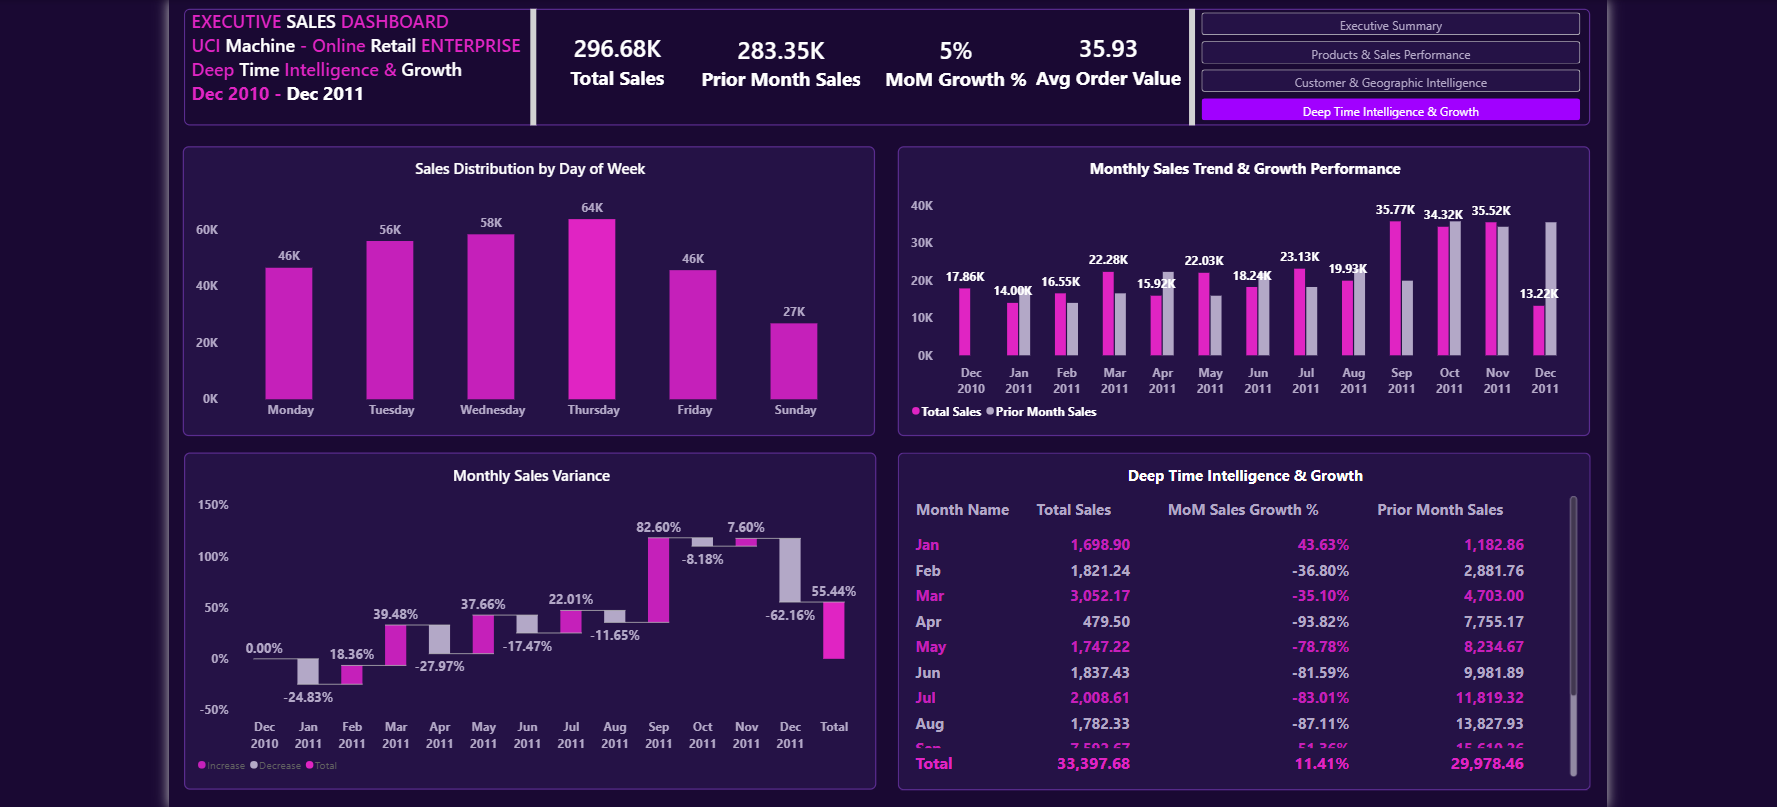

What the dashboard file says about the page in this screenshot:
{"tool":"powerbi","page":{"name":"Deep Time Intelligence & Growth","canvas":[1920,1080],"ordinal":3},"visuals":[{"type":"shape","box":[20.3,11.9,1878.3,155.8],"z":0},{"type":"textbox","box":[310,930,300,150],"z":1000},{"type":"textbox","box":[1402.4,50.8,13.5,32.2],"z":2000},{"type":"textbox","box":[30.5,11.9,445.5,155.8],"z":3000},{"type":"clusteredColumnChart","fields":{"Y":["_Measures.Total Sales"],"Category":["Dim_Calendar.Day of Week"]},"box":[18.1,195.4,925,387],"z":4000},{"type":"cardVisual","fields":{"Data":["_Measures.Total Sales"]},"box":[474.1,32.6,249.7,97.7],"z":5000},{"type":"cardVisual","fields":{"Data":["_Measures.Prior Month Sales"]},"box":[692.9,34.4,249.7,97.7],"z":6000},{"type":"cardVisual","fields":{"Data":["_Measures.MoM Growth %"]},"box":[926.5,35.6,249.7,97.7],"z":7000},{"type":"cardVisual","fields":{"Data":["_Measures.Avg Order Value"]},"box":[1130.4,33.4,249.7,97.7],"z":8000},{"type":"shape","box":[1255.7,11.7,221.9,155.8],"z":9000},{"type":"pageNavigator","box":[1378.7,16.9,506.4,147.4],"z":10000},{"type":"shape","box":[375.7,11.7,221.9,155.8],"z":12000},{"type":"clusteredColumnChart","fields":{"Category":["Dim_Calendar.Month Year"],"Y":["_Measures.Total Sales","_Measures.Prior Month Sales"]},"box":[972.7,194.5,925,387.3],"z":13000},{"type":"waterfallChart","fields":{"Category":["Dim_Calendar.Month Year"],"Y":["_Measures.MoM Sales Growth %"]},"box":[20,603.6,925,450],"z":14000},{"type":"tableEx","title":"Deep Time Intelligence & Growth","fields":{"Values":["Dim_Calendar.Month Name","_Measures.Total Sales","_Measures.MoM Sales Growth %","_Measures.Prior Month Sales"]},"box":[972.7,603.6,925.5,450.9],"z":15000}]}

Visuals, with their boxes on the page's 1920x1080 design canvas (x1, y1, x2, y2). These are canvas units, not pixel positions in the 1777x807 screenshot, which may show the page scaled, cropped or inside an application window:
shape: box(20, 12, 1899, 168)
textbox: box(310, 930, 610, 1080)
textbox: box(1402, 51, 1416, 83)
textbox: box(30, 12, 476, 168)
clusteredColumnChart - _Measures.Total Sales x Dim_Calendar.Day of Week: box(18, 195, 943, 582)
cardVisual - _Measures.Total Sales: box(474, 33, 724, 130)
cardVisual - _Measures.Prior Month Sales: box(693, 34, 943, 132)
cardVisual - _Measures.MoM Growth %: box(926, 36, 1176, 133)
cardVisual - _Measures.Avg Order Value: box(1130, 33, 1380, 131)
shape: box(1256, 12, 1478, 168)
pageNavigator: box(1379, 17, 1885, 164)
shape: box(376, 12, 598, 168)
clusteredColumnChart - Dim_Calendar.Month Year x _Measures.Total Sales: box(973, 194, 1898, 582)
waterfallChart - Dim_Calendar.Month Year x _Measures.MoM Sales Growth %: box(20, 604, 945, 1054)
"Deep Time Intelligence & Growth" tableEx: box(973, 604, 1898, 1054)
